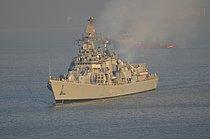MIL_Ship: (45, 15, 160, 103)
